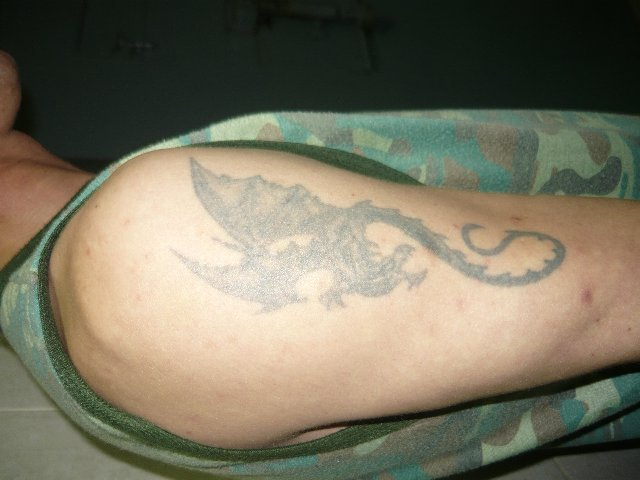tatu6_drakon: (169, 152, 583, 341)
